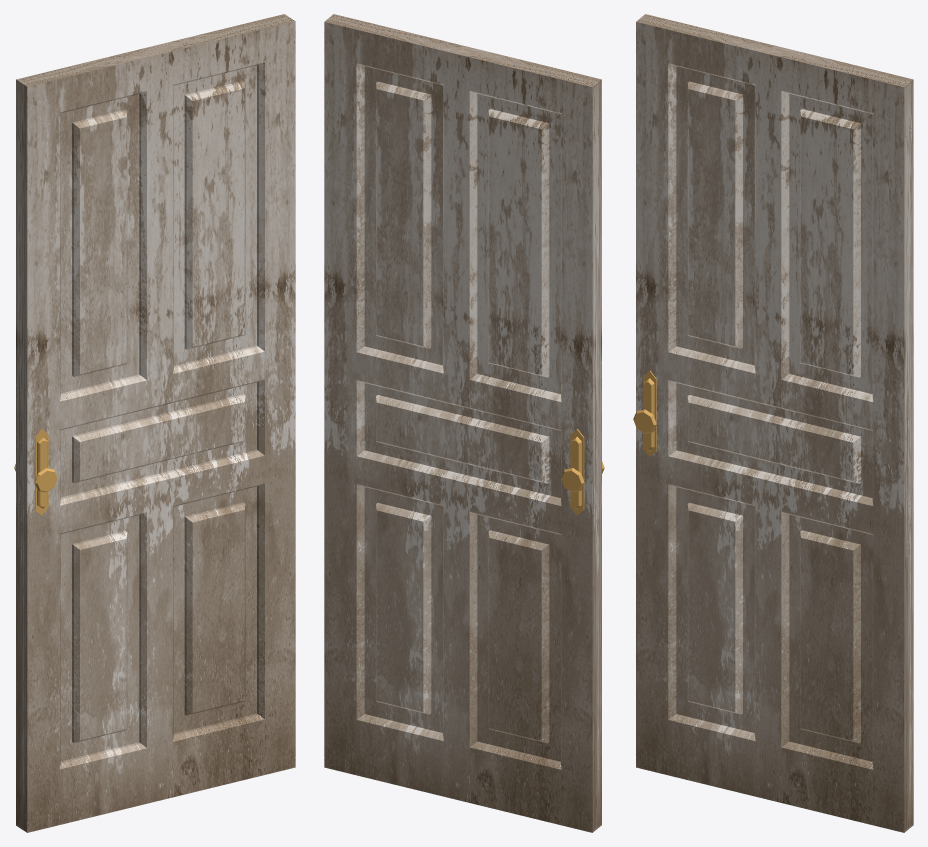
Rendered from Door.fbx.
The picture shows the model from 3 angles, left to right: view 1: azimuth 30°, elevation 25°; view 2: azimuth 150°, elevation 25°; view 3: azimuth 330°, elevation 25°; orthographic projection.
Parts seen in each view (by area): view 1: Door, Handle; view 2: Door, Handle; view 3: Door, Handle.
Part boxes in pixels (x1,y1,x2,y2): Door: (16, 14, 295, 832); Handle: (14, 429, 57, 515); Door: (324, 14, 601, 832); Handle: (561, 429, 604, 515); Door: (636, 14, 913, 832); Handle: (633, 371, 656, 456).
Size of the model in its own units: 505 by 1336 by 74.19.
